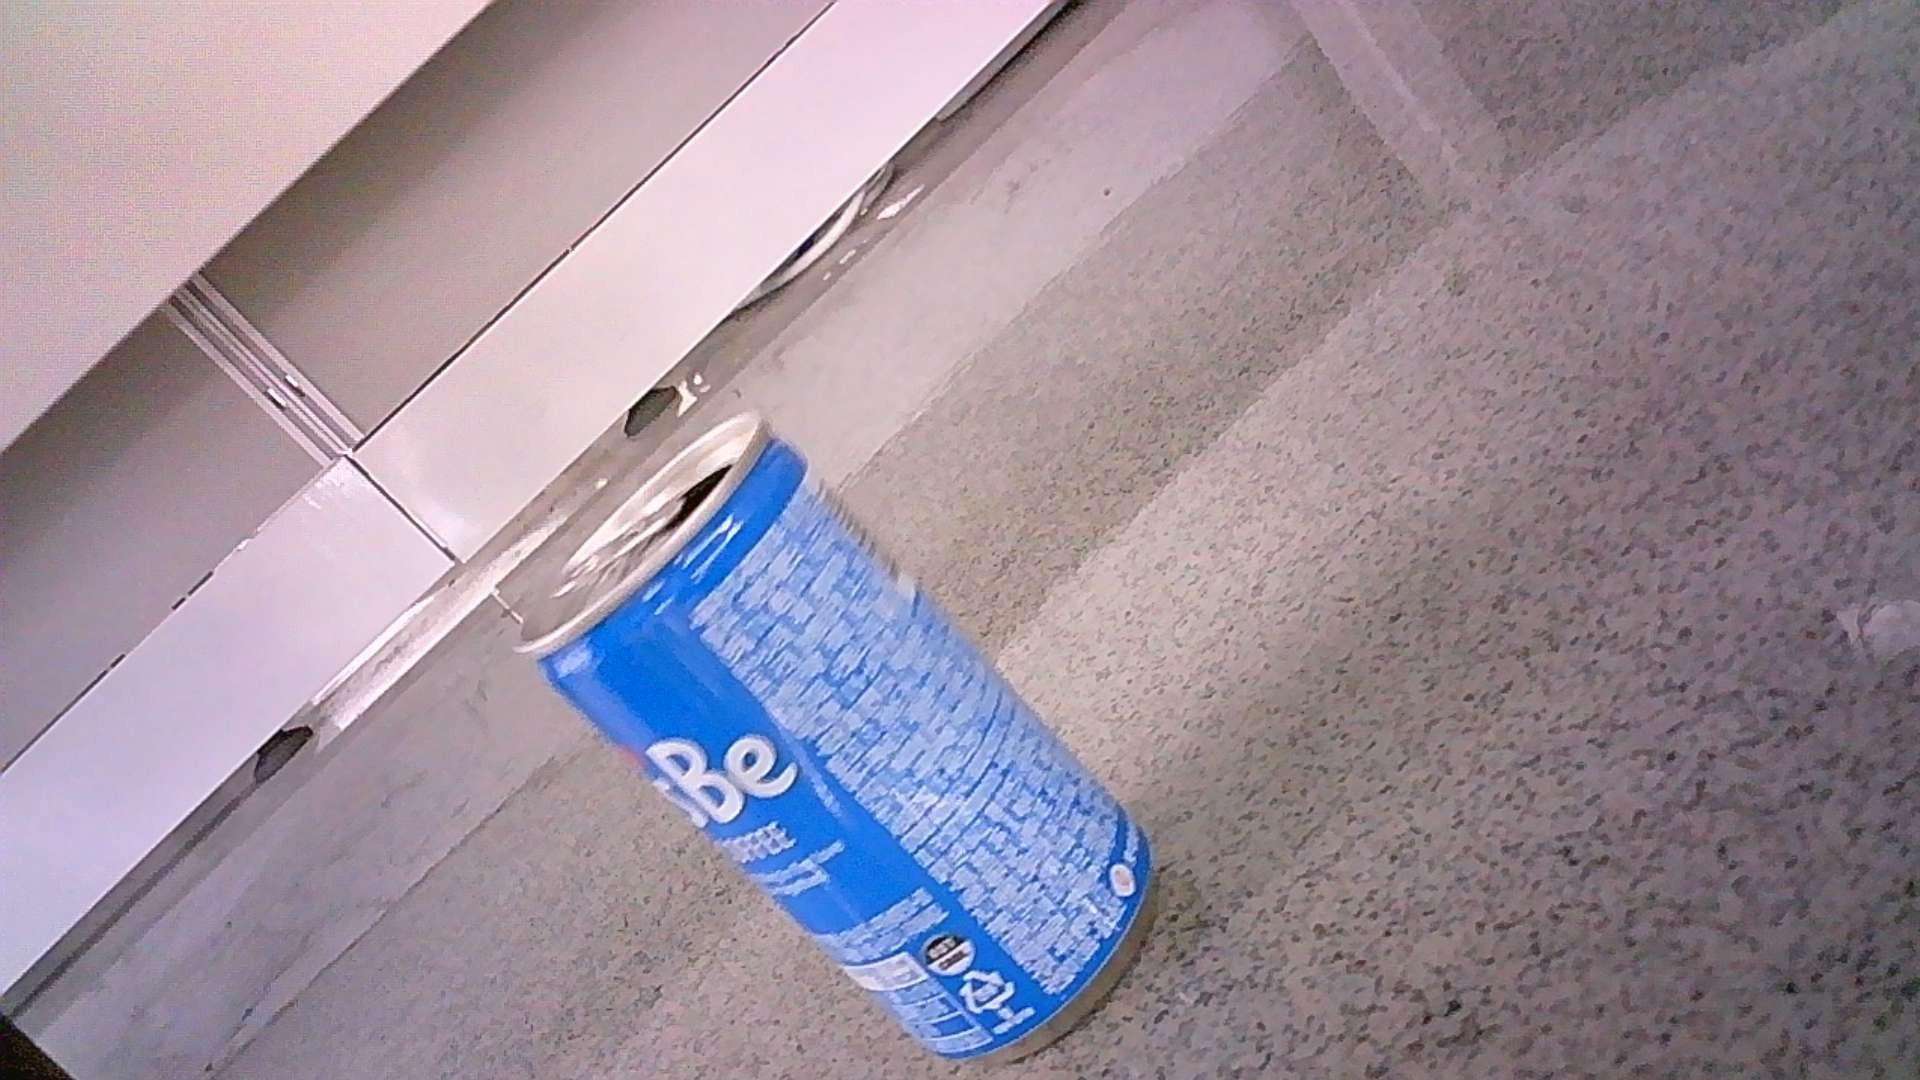letsbe: (517, 411, 1162, 1063)
